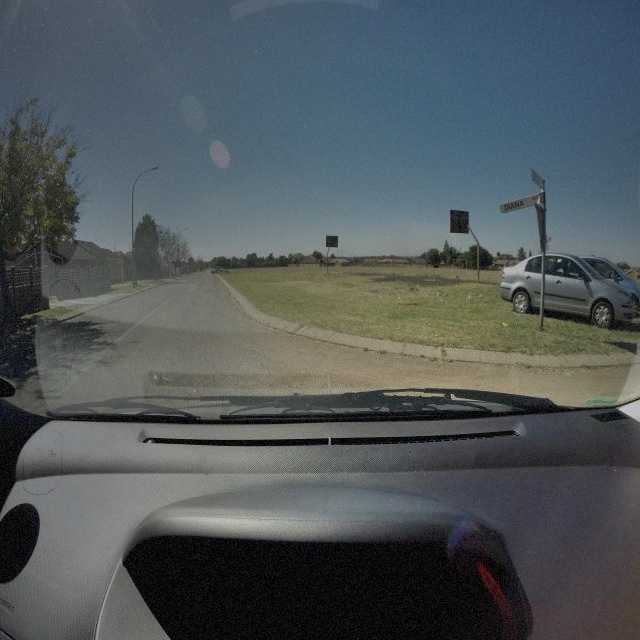pothole: (96, 356, 125, 367)
